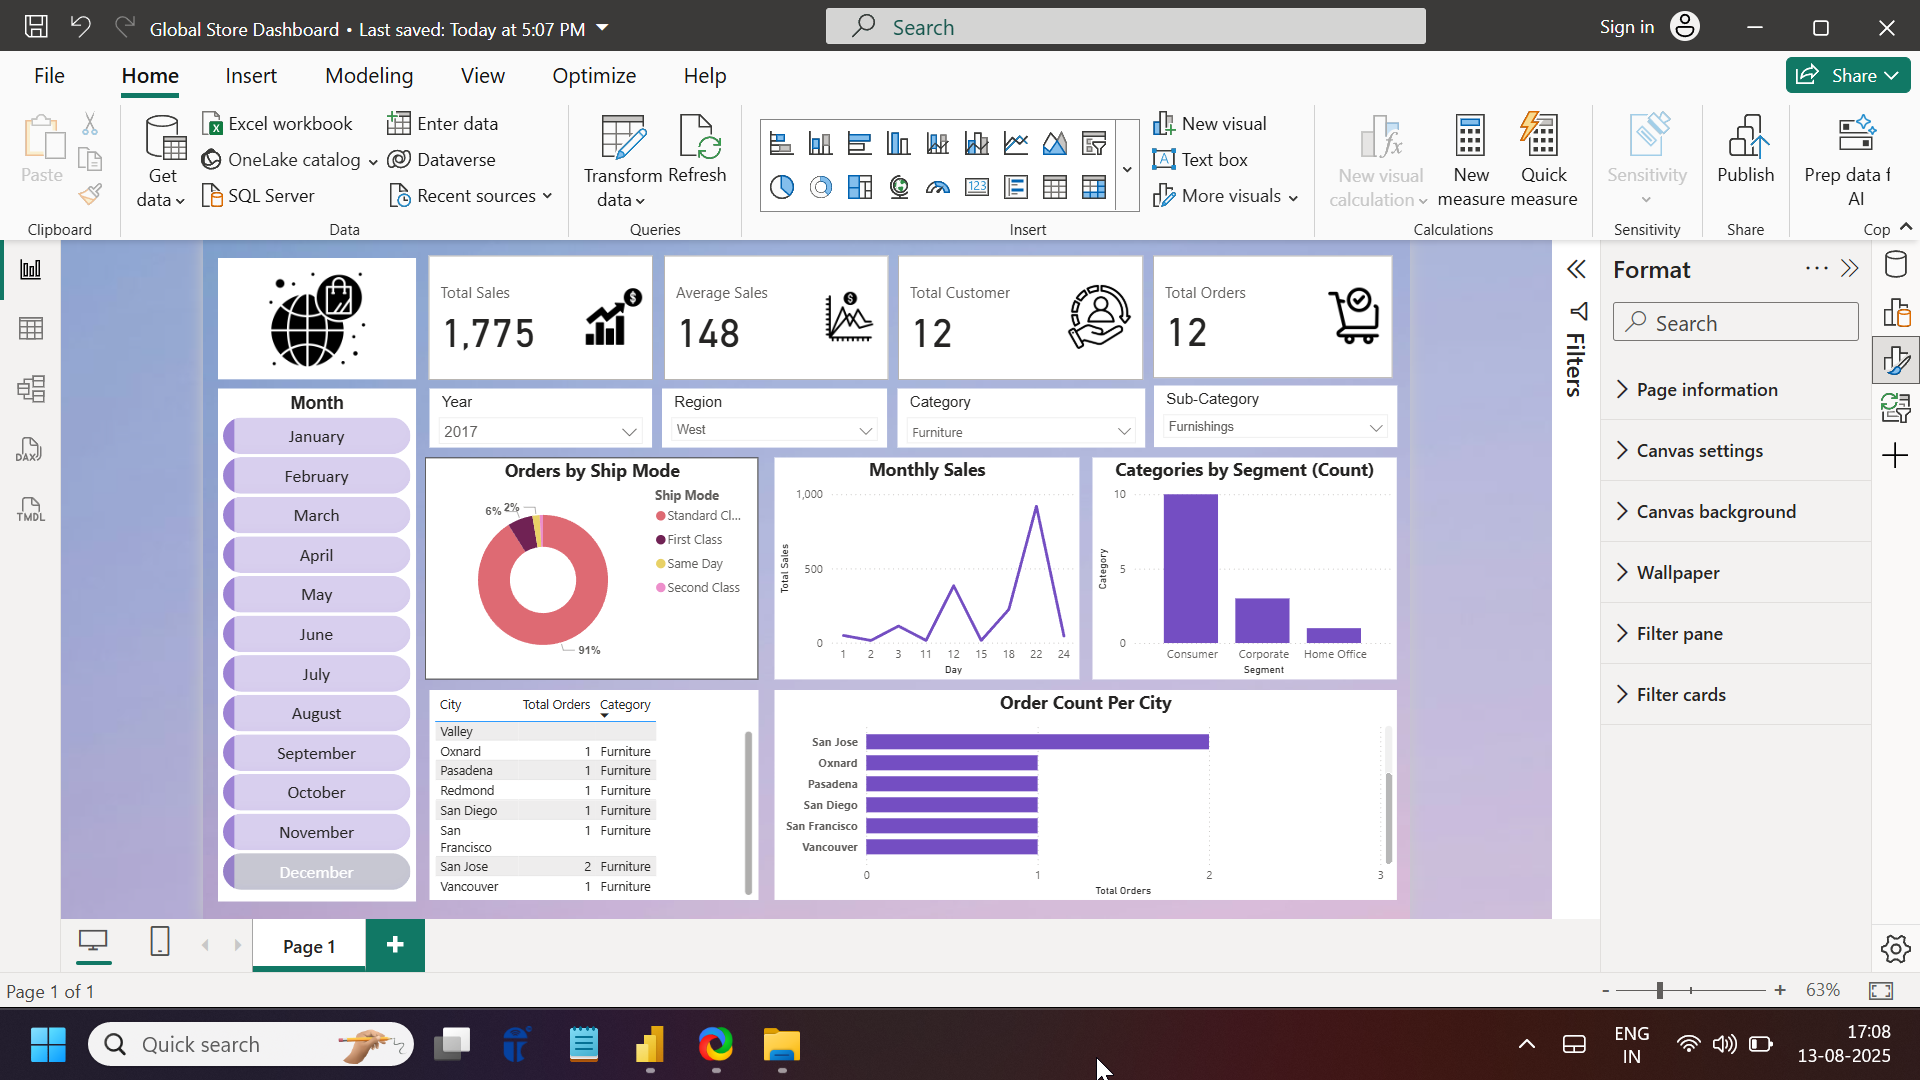

What the dashboard file says about the page in this screenshot:
{"tool":"powerbi","page":{"name":"Page 1","canvas":[1280,720],"ordinal":0},"visuals":[{"type":"image","box":[15.9,19.1,210,128.8],"z":0},{"type":"advancedSlicerVisual","fields":{"Values":["global Store.Order Date.Variation.Date Hierarchy.Month"]},"box":[15.9,157.5,210,544],"z":1000},{"type":"slicer","fields":{"Values":["global Store.Order Date.Variation.Date Hierarchy.Year"]},"box":[240,157.1,235.7,62.9],"z":2000},{"type":"slicer","fields":{"Values":["global Store.Region"]},"box":[487.1,157.1,238.6,62.9],"z":3000},{"type":"slicer","fields":{"Values":["global Store.Category"]},"box":[735.7,157.1,262.9,62.9],"z":4000},{"type":"slicer","fields":{"Values":["global Store.Sub-Category"]},"box":[1008.4,154.3,257.7,65.2],"z":5000},{"type":"donutChart","title":"Orders by Ship Mode","fields":{"Category":["global Store.Ship Mode"],"Y":["Sum(global Store.Sales)"]},"box":[235,230,353.3,235],"z":6000},{"type":"cardVisual","fields":{"Data":["global Store.Average Sales"]},"box":[482.9,11.4,248.6,142.9],"z":7000},{"type":"cardVisual","fields":{"Data":["global Store.Total Orders"]},"box":[1001.4,11.4,264.3,140],"z":8000},{"type":"cardVisual","fields":{"Data":["global Store.Total Customer"]},"box":[731.4,11.4,270,142.9],"z":9000},{"type":"cardVisual","fields":{"Data":["global Store.Total Sales"]},"box":[234.3,11.4,248.6,142.9],"z":10000},{"type":"lineChart","title":"Monthly Sales","fields":{"Y":["Sum(global Store.Sales)"],"Category":["global Store.Order Date.Variation.Date Hierarchy.Day"]},"box":[606.7,230,323.3,235],"z":11000},{"type":"columnChart","title":"Categories by Segment (Count)","fields":{"Category":["global Store.Segment"],"Y":["CountNonNull(global Store.Category)"]},"box":[943.2,230.6,322.9,235.4],"z":12000},{"type":"tableEx","fields":{"Values":["global Store.City","global Store.Total Orders","global Store.Category"]},"box":[240.8,477.5,348,222.6],"z":13000},{"type":"clusteredBarChart","title":"Order Count Per City","fields":{"Category":["global Store.City"],"Y":["CountNonNull(global Store.Order ID)"]},"box":[606,477.2,660.1,222.7],"z":14000}]}

Visuals, with their boxes on the page's 1280x720 design canvas (x1, y1, x2, y2). These are canvas units, not pixel positions in the 1920x1080 screenshot, which may show the page scaled, cropped or inside an application window:
image: x1=16, y1=19, x2=226, y2=148
advancedSlicerVisual - global Store.Order Date.Variation.Date Hierarchy.Month: x1=16, y1=158, x2=226, y2=702
slicer - global Store.Order Date.Variation.Date Hierarchy.Year: x1=240, y1=157, x2=476, y2=220
slicer - global Store.Region: x1=487, y1=157, x2=726, y2=220
slicer - global Store.Category: x1=736, y1=157, x2=999, y2=220
slicer - global Store.Sub-Category: x1=1008, y1=154, x2=1266, y2=220
"Orders by Ship Mode" donutChart: x1=235, y1=230, x2=588, y2=465
cardVisual - global Store.Average Sales: x1=483, y1=11, x2=732, y2=154
cardVisual - global Store.Total Orders: x1=1001, y1=11, x2=1266, y2=151
cardVisual - global Store.Total Customer: x1=731, y1=11, x2=1001, y2=154
cardVisual - global Store.Total Sales: x1=234, y1=11, x2=483, y2=154
"Monthly Sales" lineChart: x1=607, y1=230, x2=930, y2=465
"Categories by Segment (Count)" columnChart: x1=943, y1=231, x2=1266, y2=466
tableEx - global Store.City x global Store.Total Orders: x1=241, y1=478, x2=589, y2=700
"Order Count Per City" clusteredBarChart: x1=606, y1=477, x2=1266, y2=700
